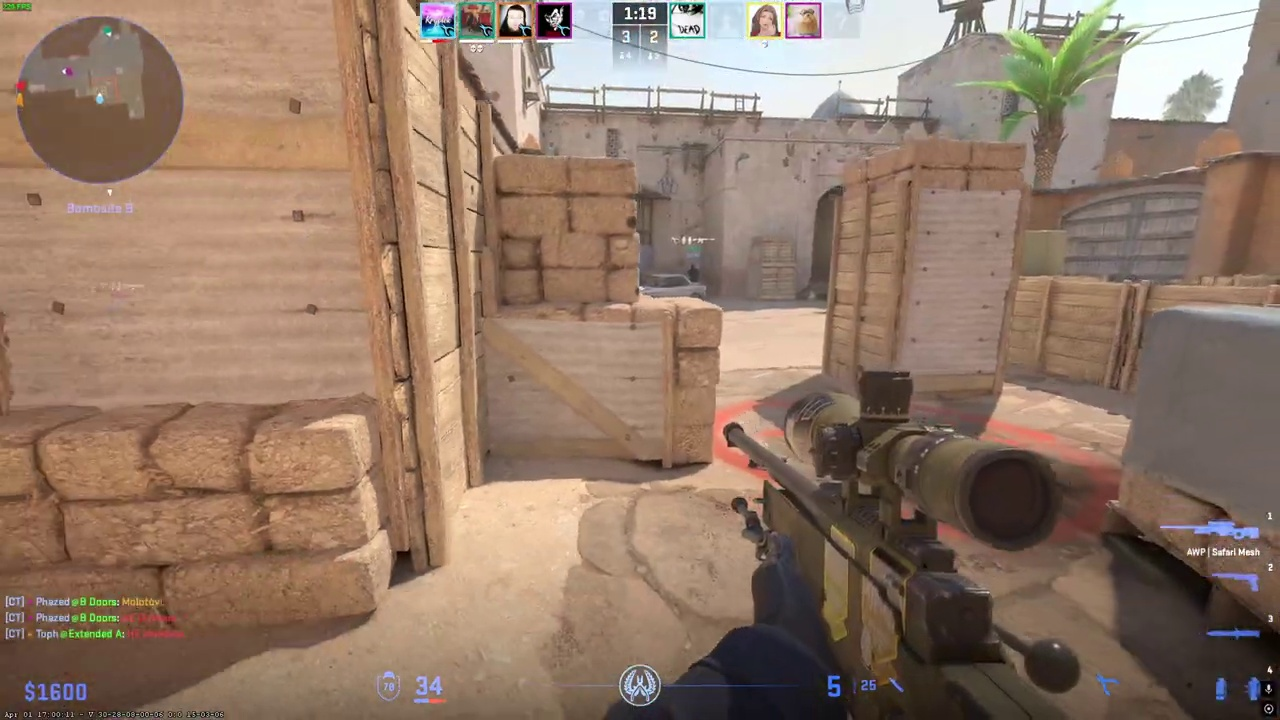CT: (687, 264, 700, 283)
